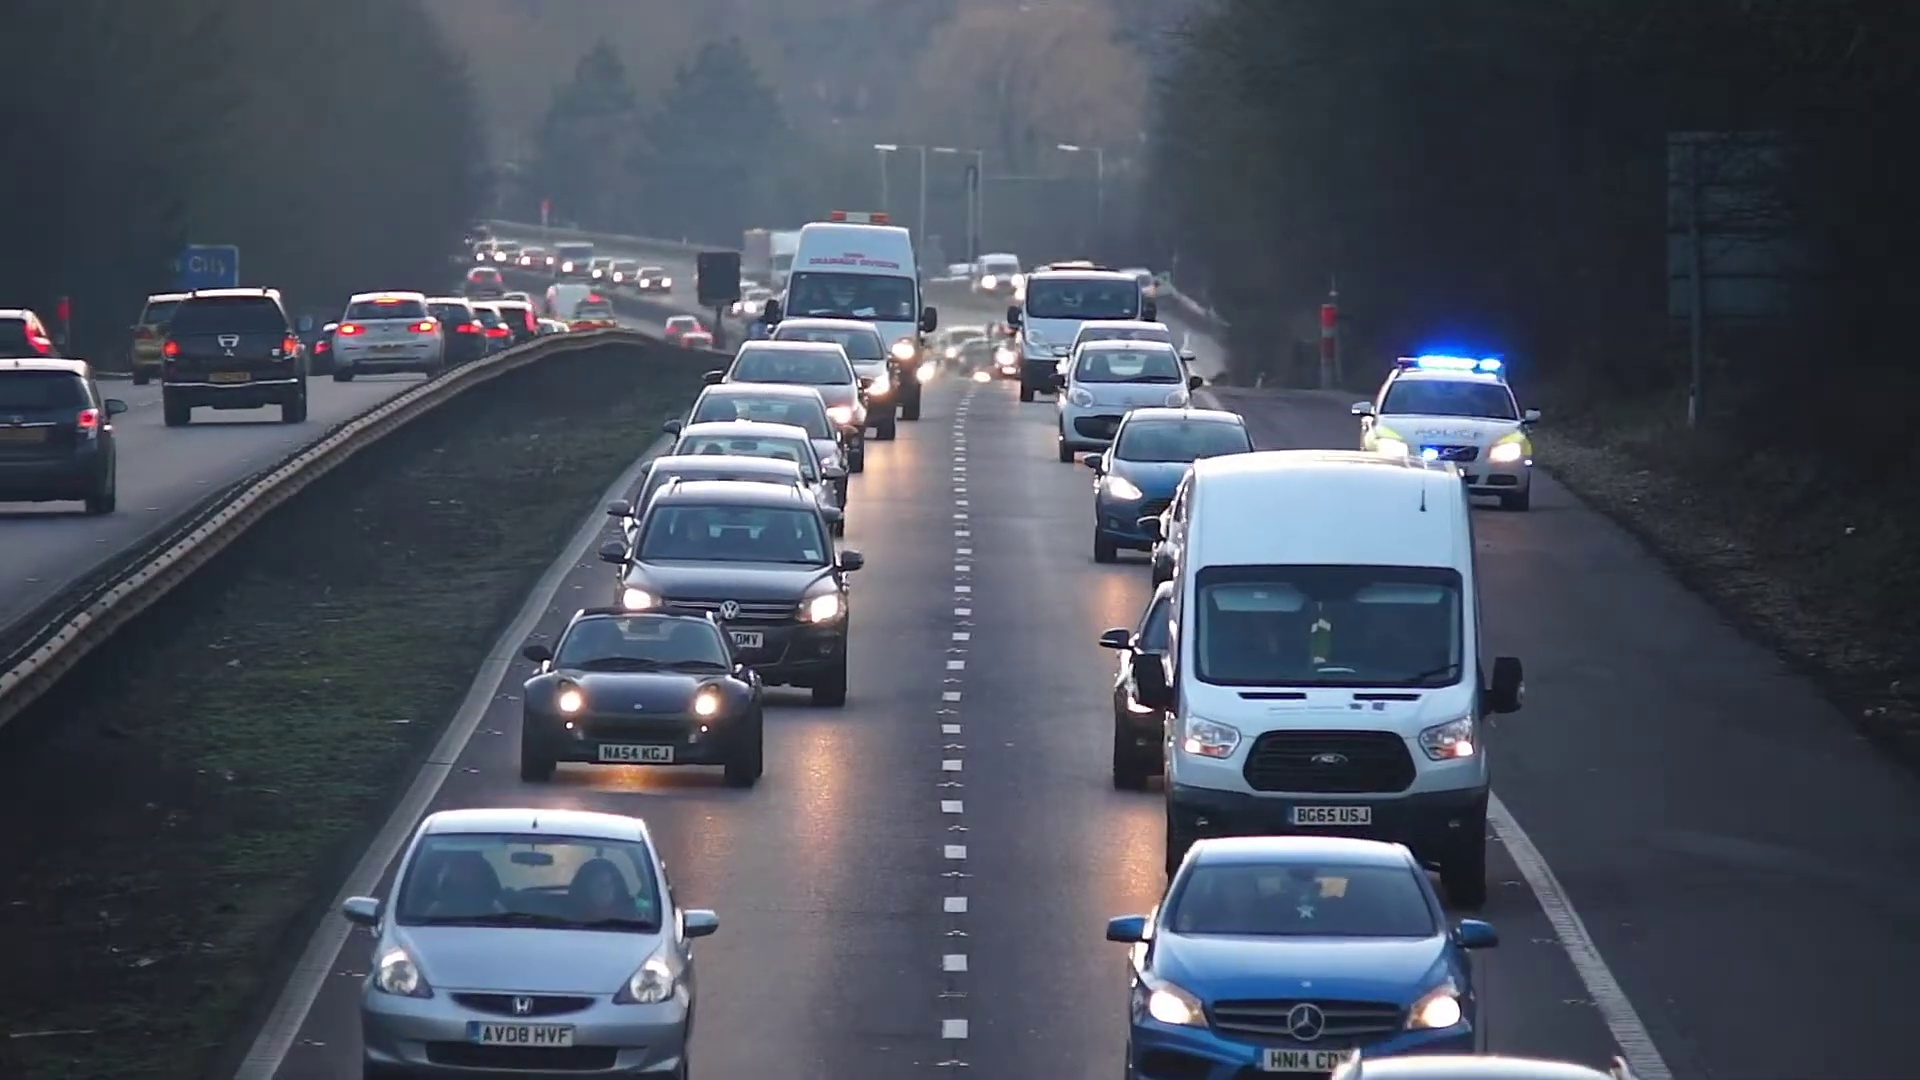license_plate: (469, 1021, 574, 1047), (1254, 1048, 1344, 1075), (594, 740, 676, 765), (1286, 804, 1377, 825)
